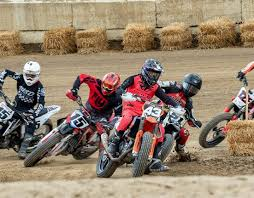motorcycle: (91, 100, 175, 176), (22, 94, 105, 168), (200, 72, 254, 148), (145, 103, 200, 168), (1, 94, 63, 151)
